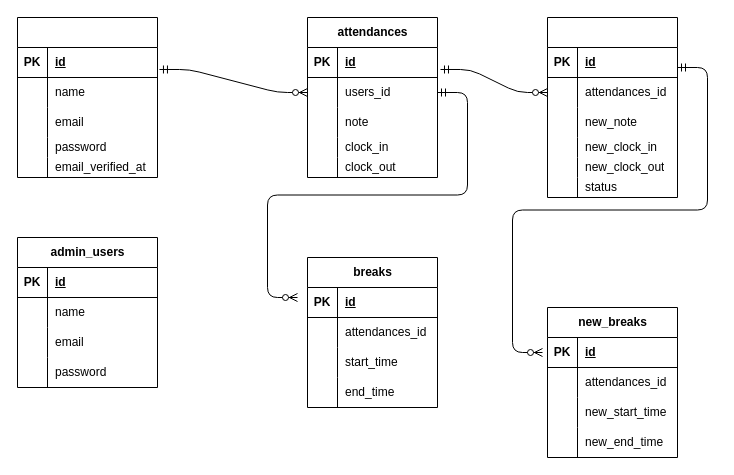
Some shapes in this 734 by 475 pixel diagram are drawn without their labels. The box of each missing label's shape, as (x1, y1, x2, y2) in pixels:
new_attendances: (546, 16, 678, 198)
users: (16, 16, 158, 178)
